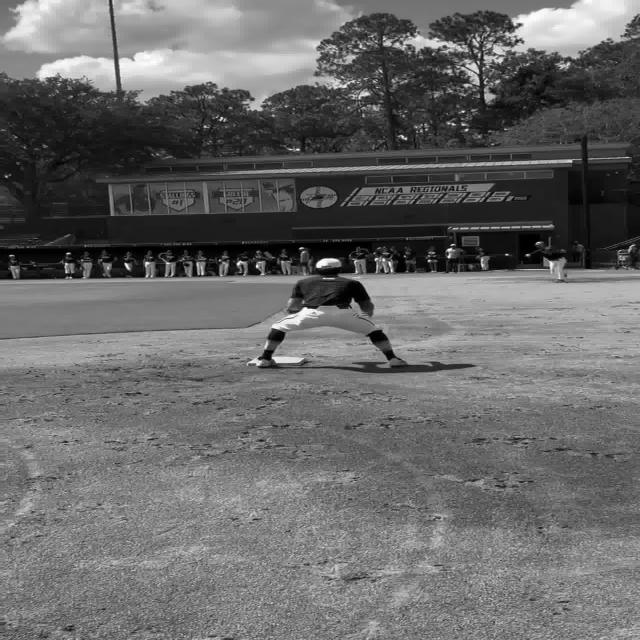base: (271, 356, 309, 366), (247, 358, 267, 368)
baseball: (506, 254, 511, 256)
shoe: (387, 358, 409, 368), (256, 359, 278, 368)
